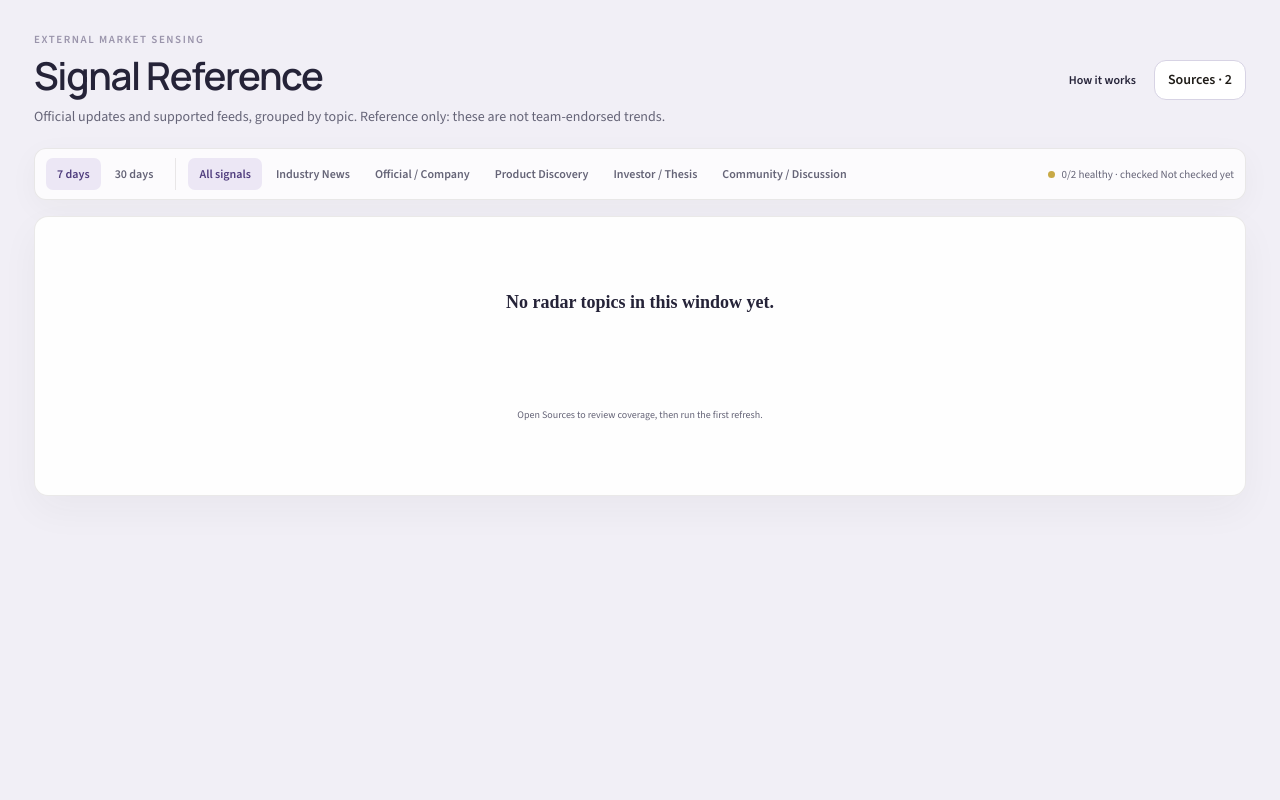
it: shows email provenance and setup verification separately from actual inbox checks
The width and height of the screenshot is (1280, 800).
Click the button "Sources · 2".
click(1200, 80)  # box 1154,60 -> 1246,100
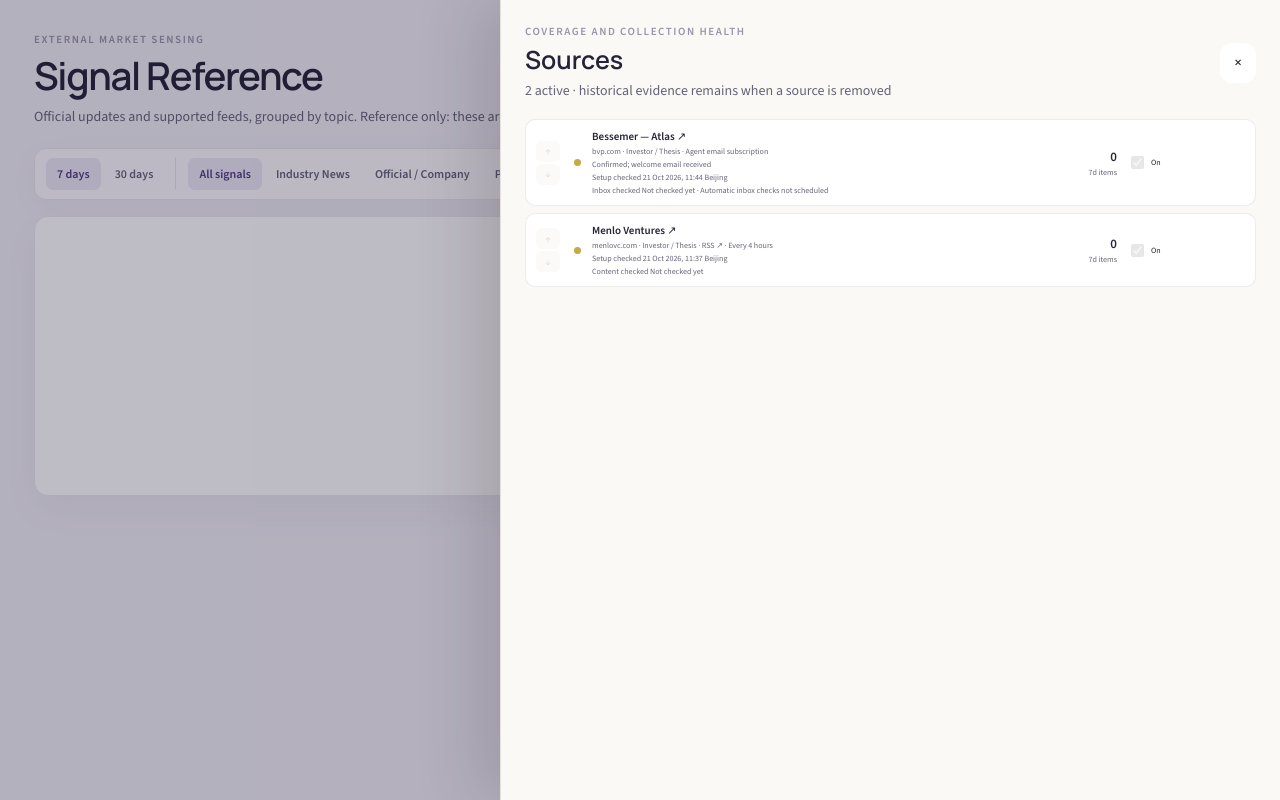
expect the text "bvp.com · Investor / Thesis · Agent email subscription" is shown: met, box 592,146 -> 768,157
expect the text "Setup checked 21 Oct 2026, 11:44 Beijing" is shown: met, box 592,172 -> 727,183
expect the text "Inbox checked Not checked yet" is shown: met, box 592,185 -> 828,196
